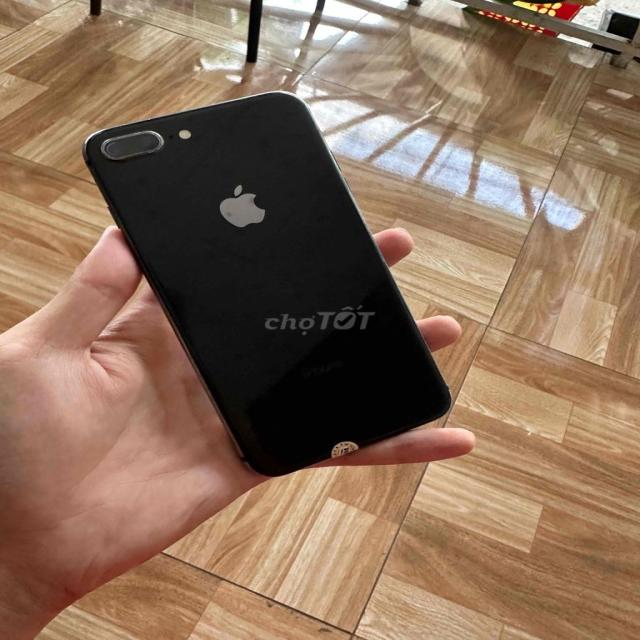gen_7_8: (80, 86, 456, 486)
